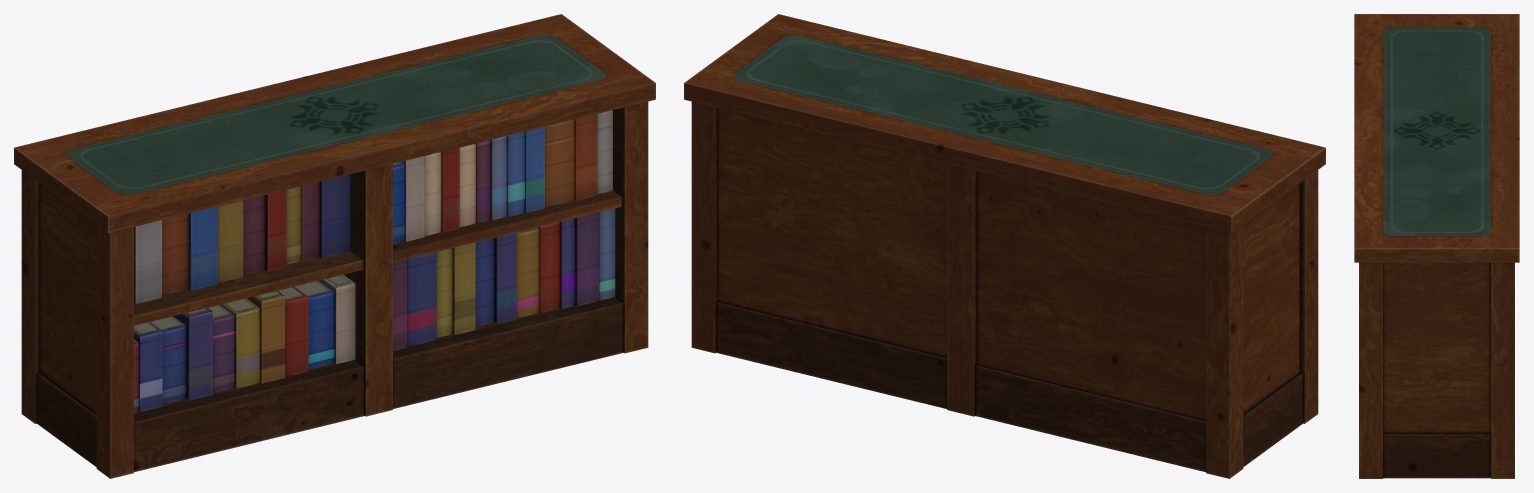
File: DS_WizLab_Furn_SmallBookcase.fbx
The picture shows the model from 3 angles, left to right: view 1: azimuth 30°, elevation 25°; view 2: azimuth 150°, elevation 25°; view 3: azimuth 270°, elevation 25°; orthographic projection. The views are drawn at different scales.
Parts seen in each view (by area): view 1: DS_WizLab_Furn_SmallBookcase; view 2: DS_WizLab_Furn_SmallBookcase; view 3: DS_WizLab_Furn_SmallBookcase.
Boxes of the visible parts, <box> form: DS_WizLab_Furn_SmallBookcase: <box>14,14,655,478</box>; DS_WizLab_Furn_SmallBookcase: <box>684,14,1325,478</box>; DS_WizLab_Furn_SmallBookcase: <box>1354,14,1519,478</box>.
Bounding box in the file's own units: 173 × 80.18 × 51.63.
Materials: 1 (1 with a texture image).
